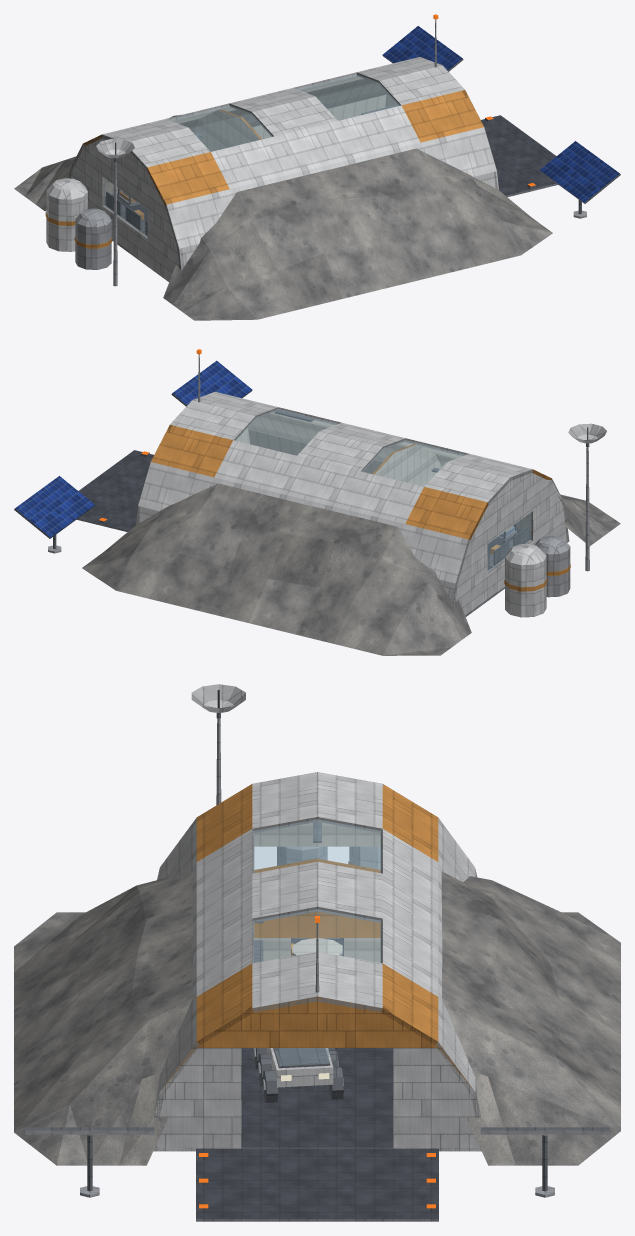
The model's file is vault-hangar.glb.
3 views of the same model, one above another, from view 1: azimuth 30°, elevation 25°; view 2: azimuth 150°, elevation 25°; view 3: azimuth 270°, elevation 25° (orthographic). The views are drawn at different scales.
Visible parts, largest first — view 1: body, roof; view 2: body, roof; view 3: body, roof.
Part boxes in pixels (box(x1,y1,x2,y2)): body: box(14, 26, 620, 320); roof: box(74, 14, 483, 254); body: box(14, 360, 620, 655); roof: box(151, 349, 561, 594); body: box(14, 684, 620, 1221); roof: box(161, 772, 476, 1089).
Size of the model in its own units: 21.05 by 6.67 by 16.
Materials: 7 (6 with a texture image).
